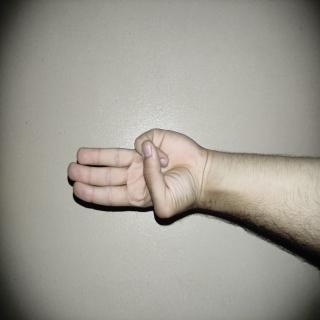THA: (66, 80, 148, 296)
